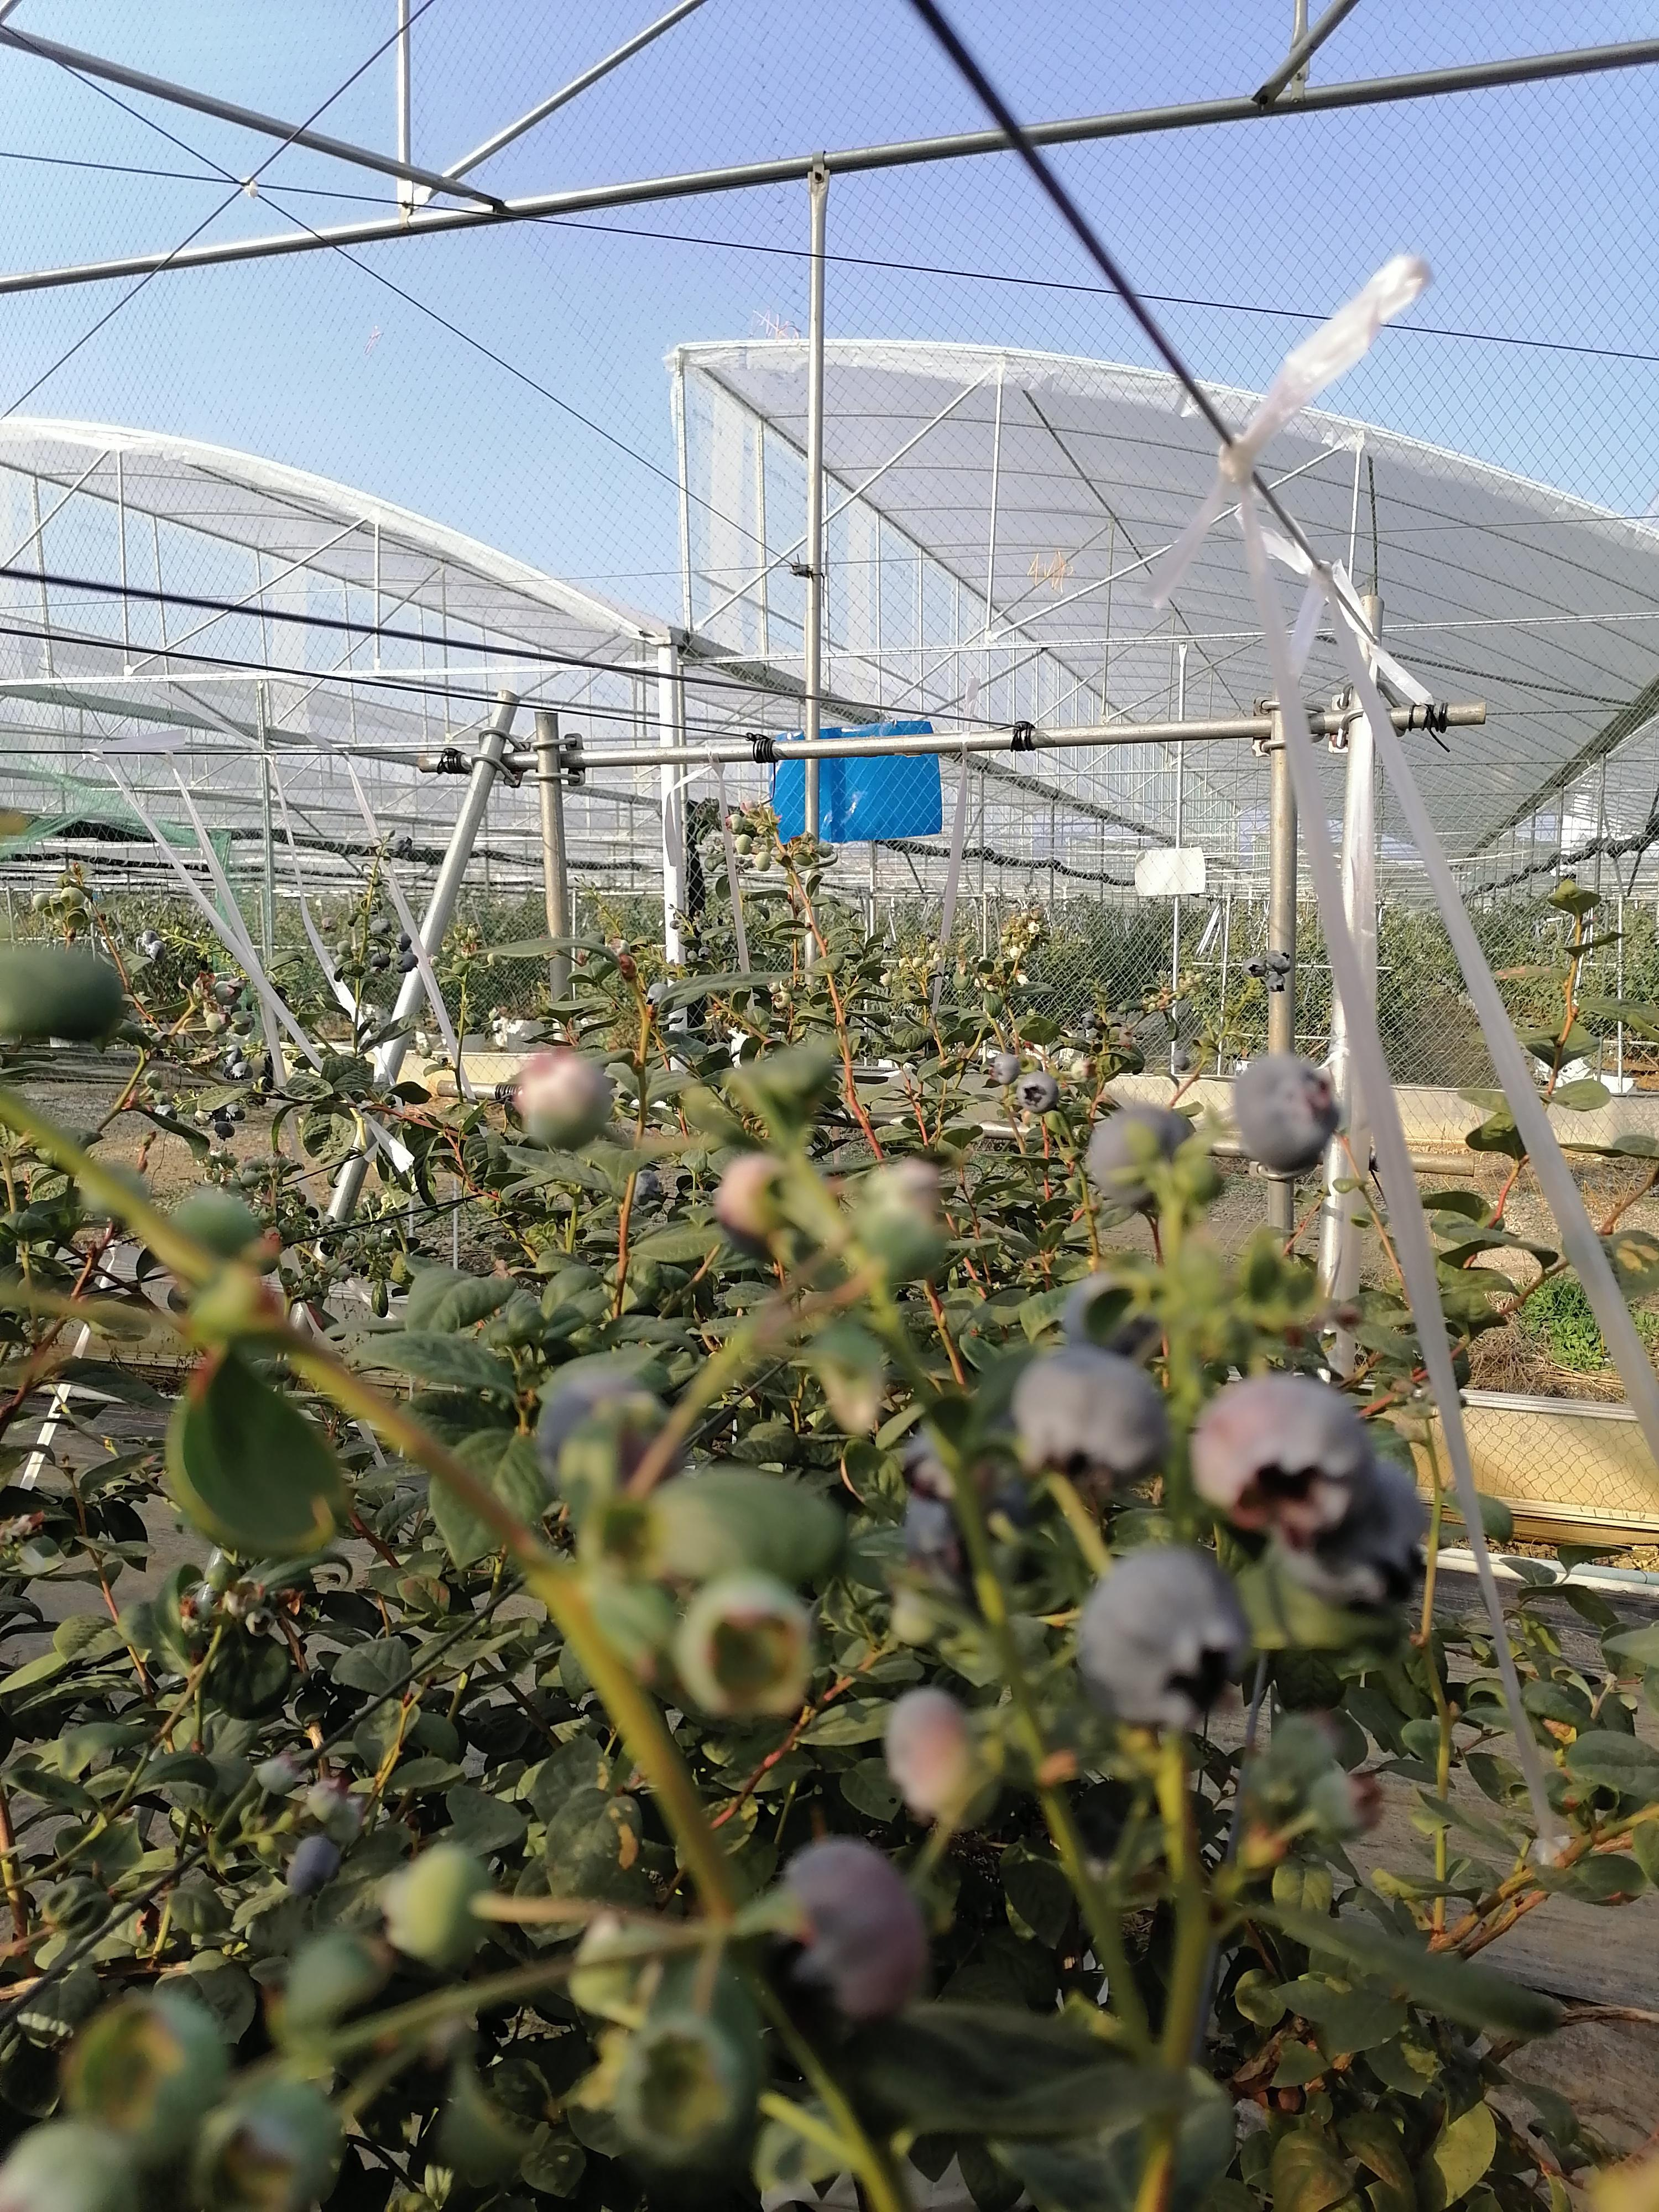ripe-blueberries: (1072, 1539, 1255, 1731), (1194, 1375, 1377, 1551), (1008, 1342, 1176, 1488), (1280, 1458, 1426, 1613), (1230, 1051, 1343, 1170), (1090, 1100, 1191, 1210), (284, 1835, 346, 1896), (1017, 1072, 1060, 1115), (990, 1052, 1020, 1085), (646, 983, 674, 1013), (1266, 949, 1291, 975), (395, 952, 419, 973), (1244, 956, 1267, 978), (370, 918, 392, 937), (231, 1062, 254, 1079), (215, 1121, 235, 1141), (1265, 973, 1286, 992), (1172, 1050, 1190, 1072), (225, 1104, 246, 1122), (226, 1045, 243, 1067), (148, 941, 166, 961), (372, 953, 391, 970), (397, 932, 412, 952), (142, 931, 159, 949), (1080, 1011, 1095, 1030), (699, 947, 712, 961)
